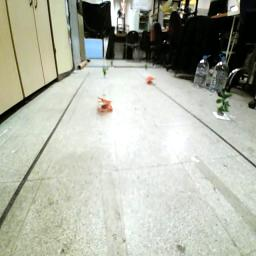herb: (216, 90, 234, 118), (103, 67, 109, 77)
wild: (99, 99, 114, 114), (147, 77, 157, 87)
